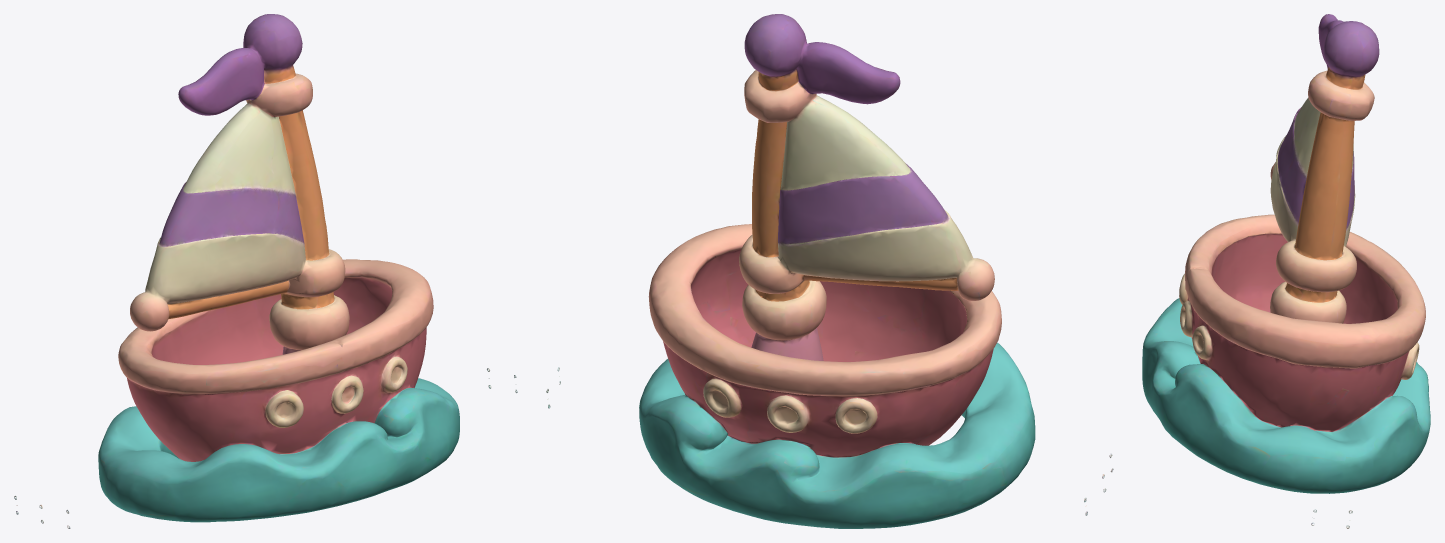
Rendered from item_boat.glb.
3 views of the same model, side by side, from view 1: azimuth 30°, elevation 25°; view 2: azimuth 150°, elevation 25°; view 3: azimuth 270°, elevation 25° (orthographic). The views are drawn at different scales.
Parts seen in each view (by area): view 1: geometry_0; view 2: geometry_0; view 3: geometry_0.
Boxes of the visible parts, x1,y1,x2,y2 form: geometry_0: (14,14,517,528); geometry_0: (546,14,1113,528); geometry_0: (1142,14,1430,528).
Bounding box in the file's own units: 0.9929 × 0.8446 × 0.5209.
1 material, 1 textured.
